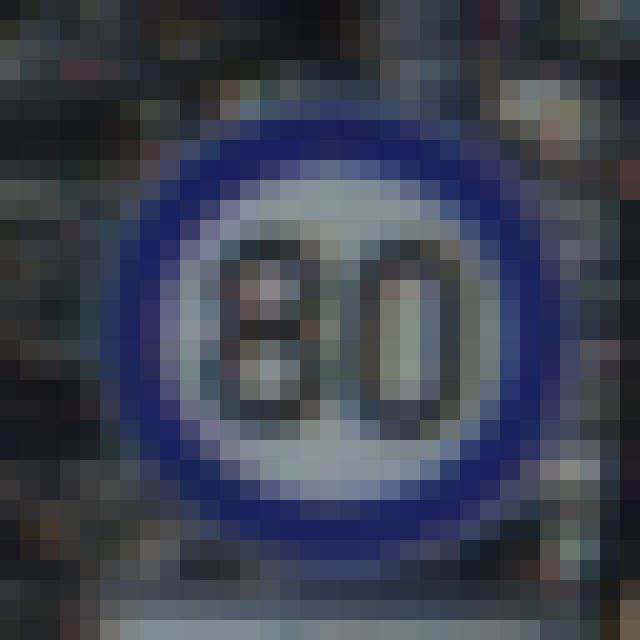SPEED-LIMIT-80: (114, 90, 546, 558)
